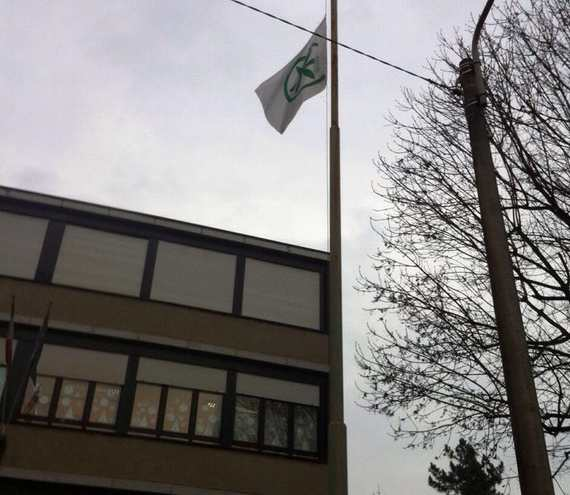Flag: (249, 12, 342, 137)
